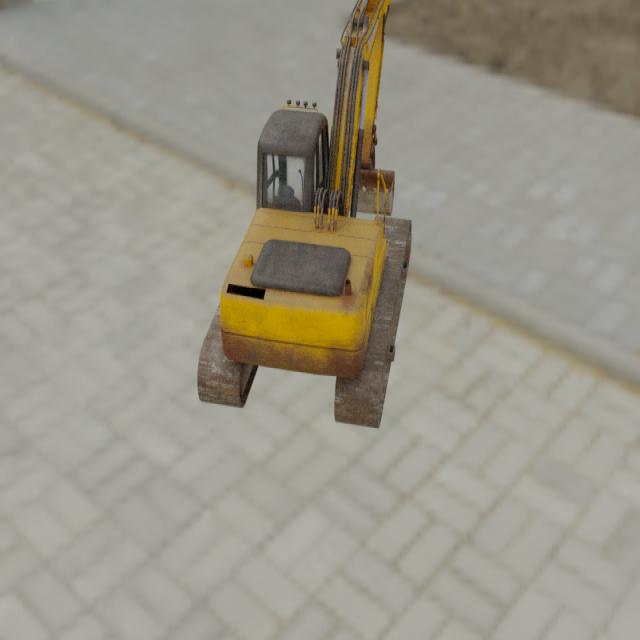excavator: (196, 0, 412, 431)
